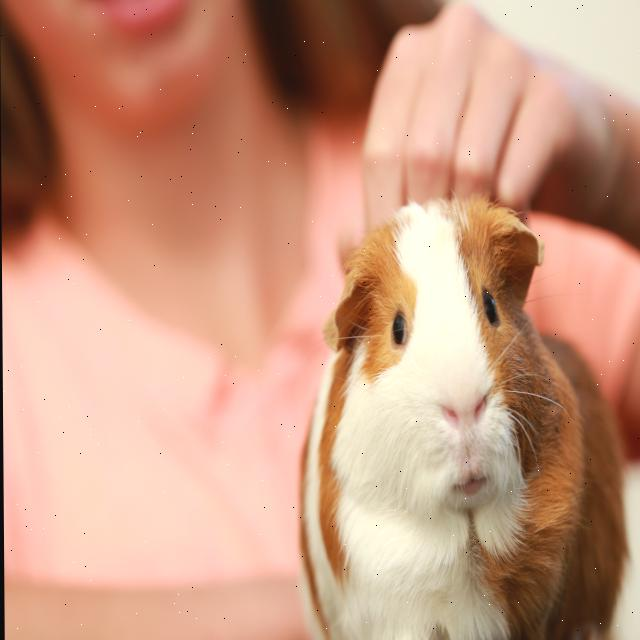guinea pig: (296, 193, 629, 640)
